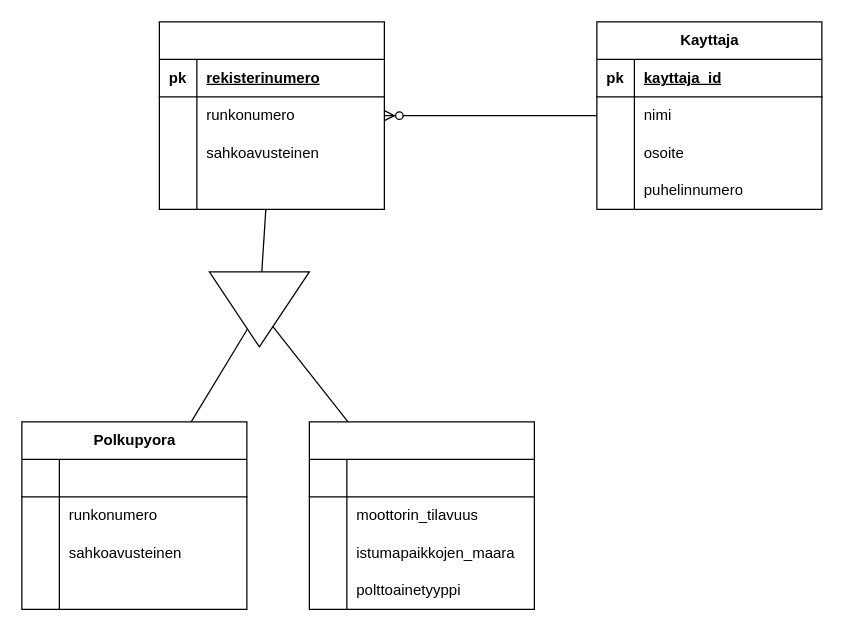
Image size: 844x631. Some labels were removed from this diagram. Each missing label, with the box of its shape:
Auto: (308, 421, 534, 609)
Kulkuneuvo: (158, 21, 384, 209)
